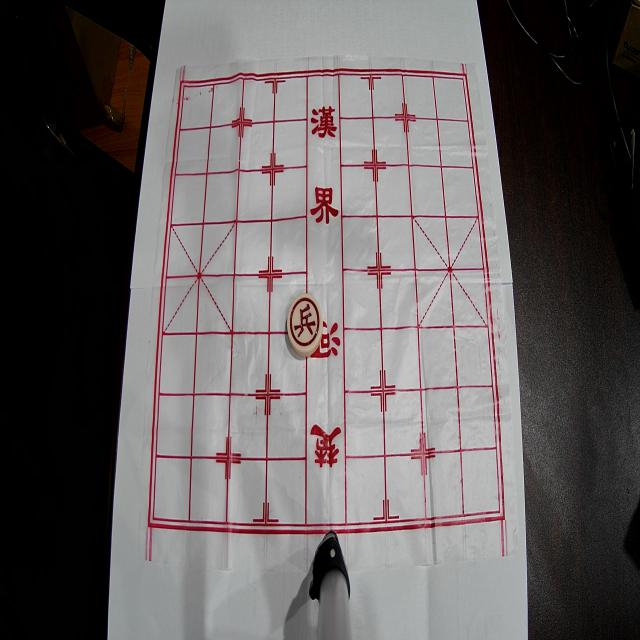red-soldier: (287, 293, 323, 357)
